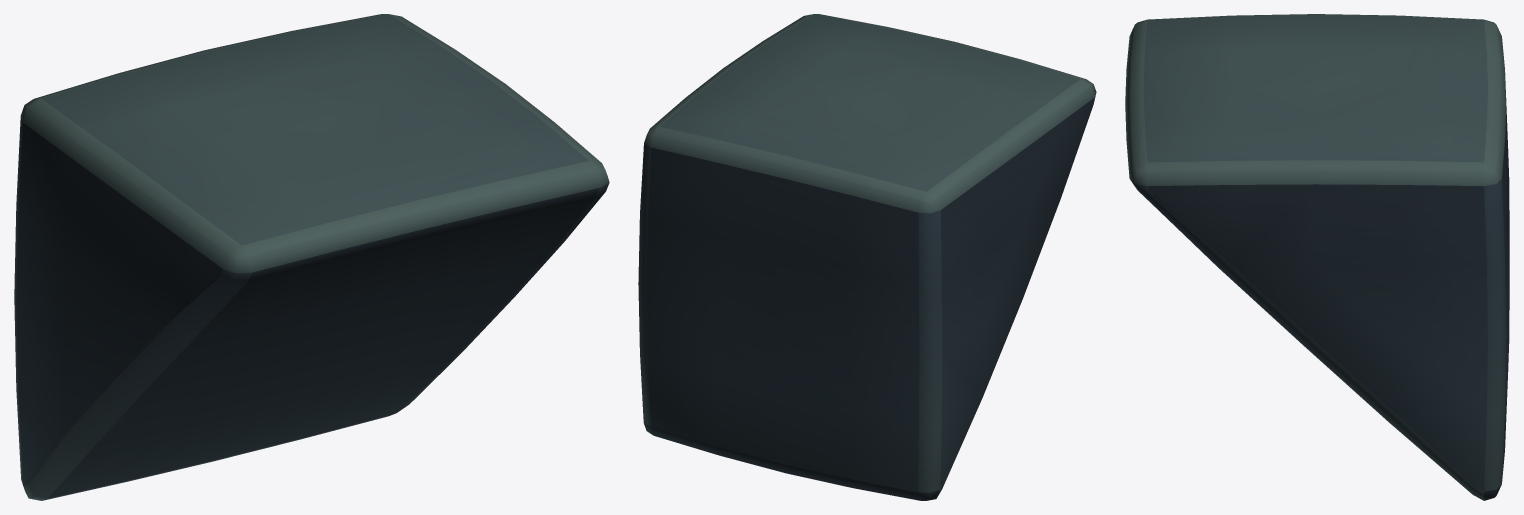
Rendered from Metal_SlopeUnder.fbx.
3 renders of one model, left to right at view 1: azimuth 30°, elevation 25°; view 2: azimuth 150°, elevation 25°; view 3: azimuth 270°, elevation 25°, orthographic. The views are drawn at different scales.
Visible parts, largest first — view 1: Metal_SlopeUnder_LOD0; view 2: Metal_SlopeUnder_LOD0; view 3: Metal_SlopeUnder_LOD0.
Boxes of the visible parts, x1=… form: Metal_SlopeUnder_LOD0: x1=14, y1=14, x2=609, y2=500; Metal_SlopeUnder_LOD0: x1=638, y1=14, x2=1096, y2=500; Metal_SlopeUnder_LOD0: x1=1125, y1=14, x2=1509, y2=500.
Size of what is drawn, in the model's own units: 1.09 by 1.08 by 1.08.
